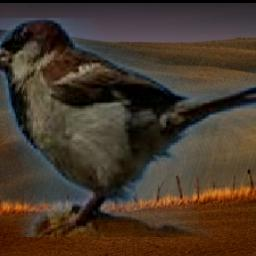Sparrow: (0, 19, 256, 238)
